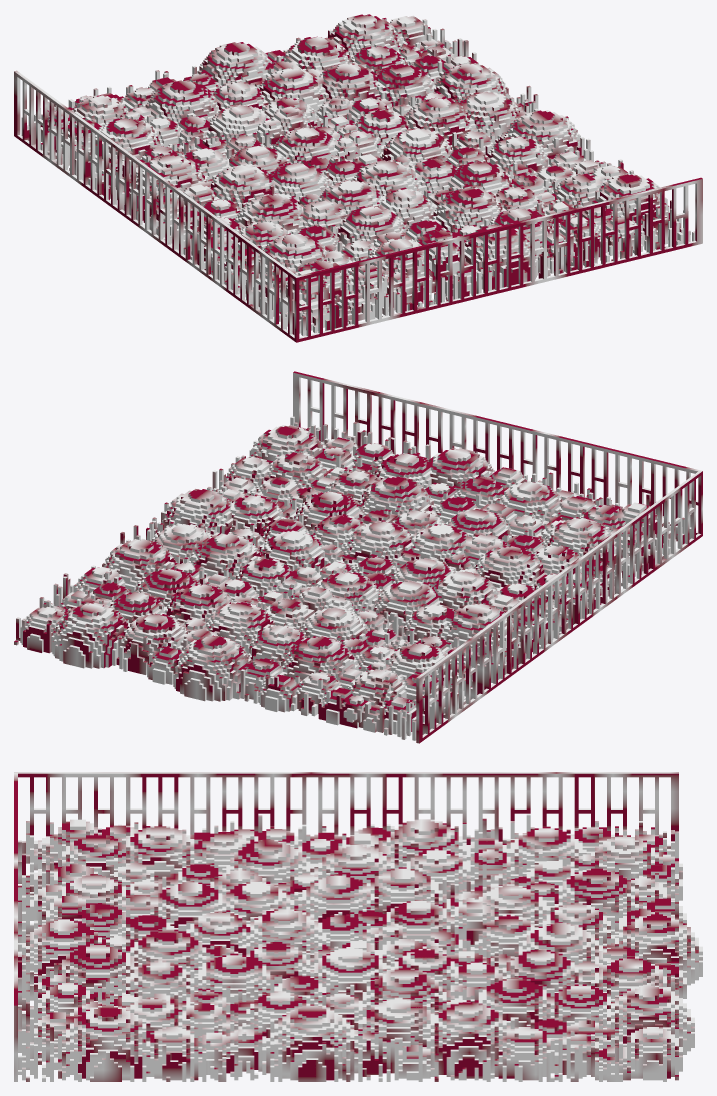
File: Jardin_03.fbx
3 views of the same model, one above another, from view 1: azimuth 30°, elevation 25°; view 2: azimuth 150°, elevation 25°; view 3: azimuth 270°, elevation 25° (orthographic). The views are drawn at different scales.
Parts seen in each view (by area): view 1: Untitled.005; view 2: Untitled.005; view 3: Untitled.005.
Part boxes in pixels (<box>): Untitled.005: <box>14,14,702,342</box>; Untitled.005: <box>14,371,702,743</box>; Untitled.005: <box>14,772,702,1081</box>.
Size of the model in its own units: 13.8 by 2.1 by 17.2.
